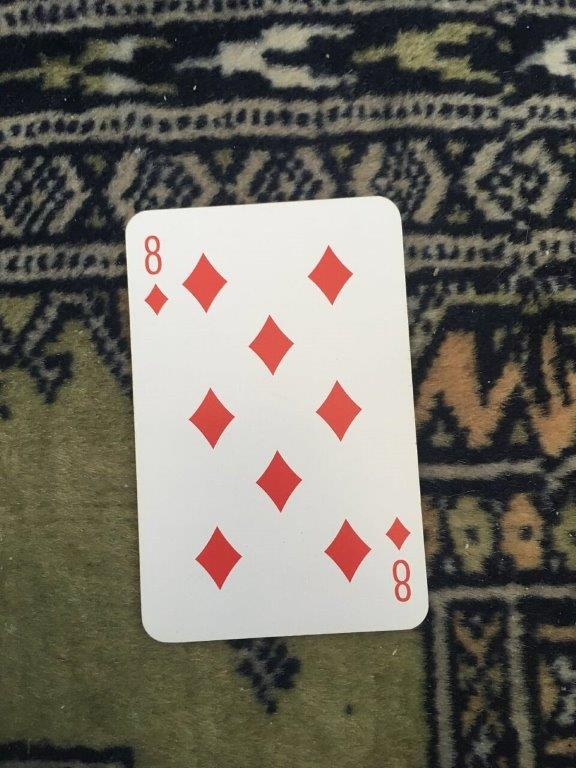8D: (120, 193, 433, 647)
